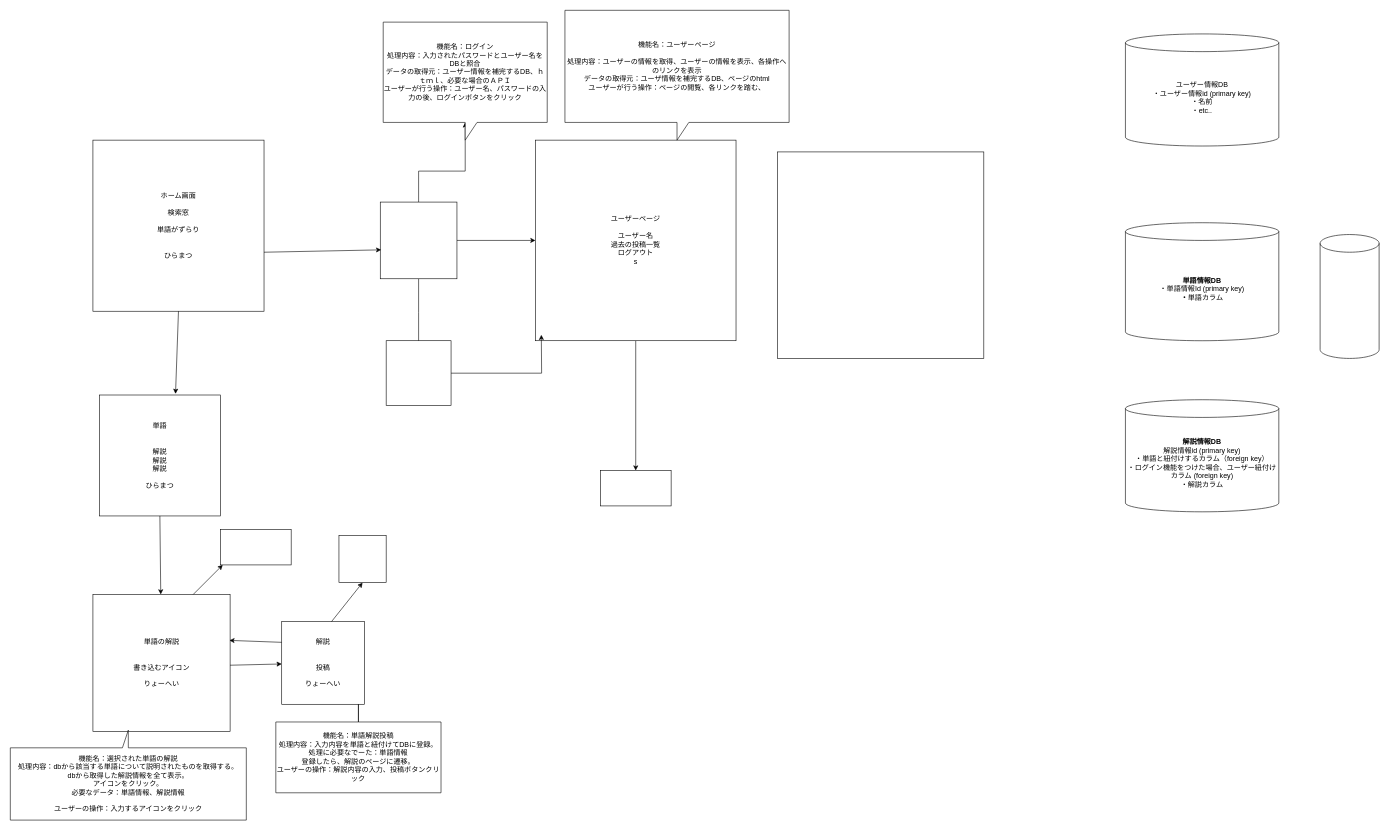
Some shapes in this 1389 by 831 pixel diagram are drawn without their labels. The centre of each missing label's shape, as x and y in pixels:
dbへ検索: the point at 255,547
dbへ登録: the point at 362,559
ログイン パスワード ユーザー名 ひろみ: the point at 418,240
ログインした状態: the point at 635,488
機能名 処理内容 処理に必要なデータ データの取得元 ユーザーが行い操作: the point at 880,254
登録画面 名前 パスワード e-mail twitter,google API: the point at 418,373
